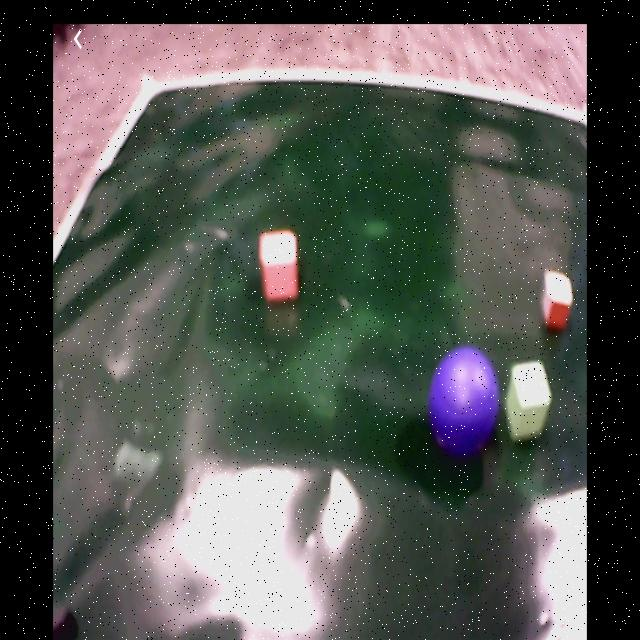ball: (430, 347, 501, 458)
